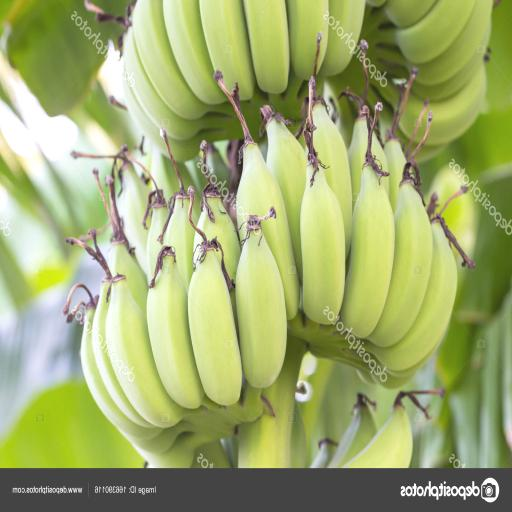banana-unripe: (68, 0, 507, 474)
